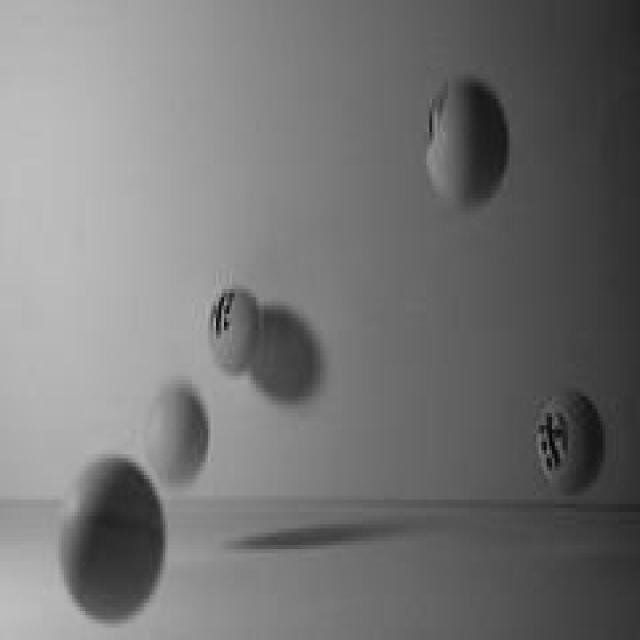ping-pong-ball: (55, 453, 169, 626), (422, 71, 510, 212), (140, 375, 210, 493), (534, 392, 608, 494), (205, 278, 263, 384)
